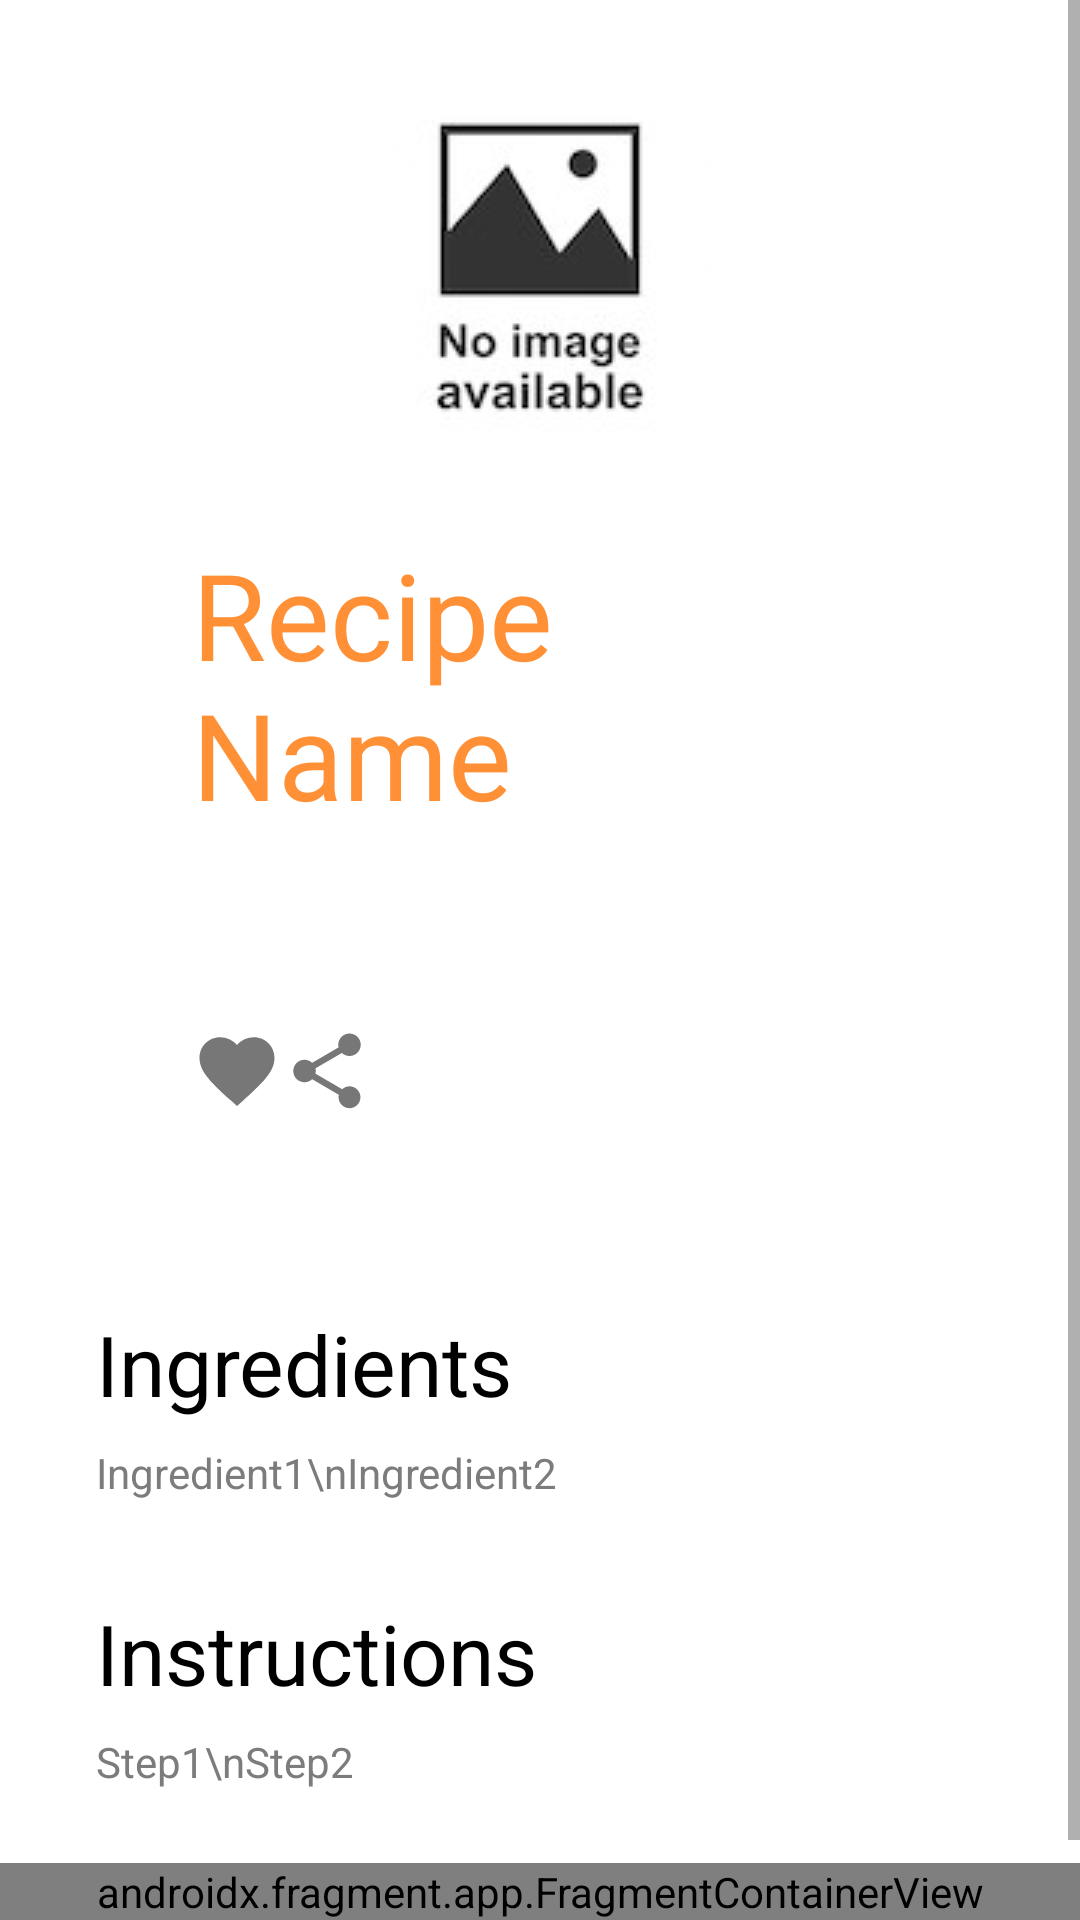

Screen size 1080×1920. Icon name, then its center in pixels as (x,y):
like: (237,1071)
share: (327,1071)
